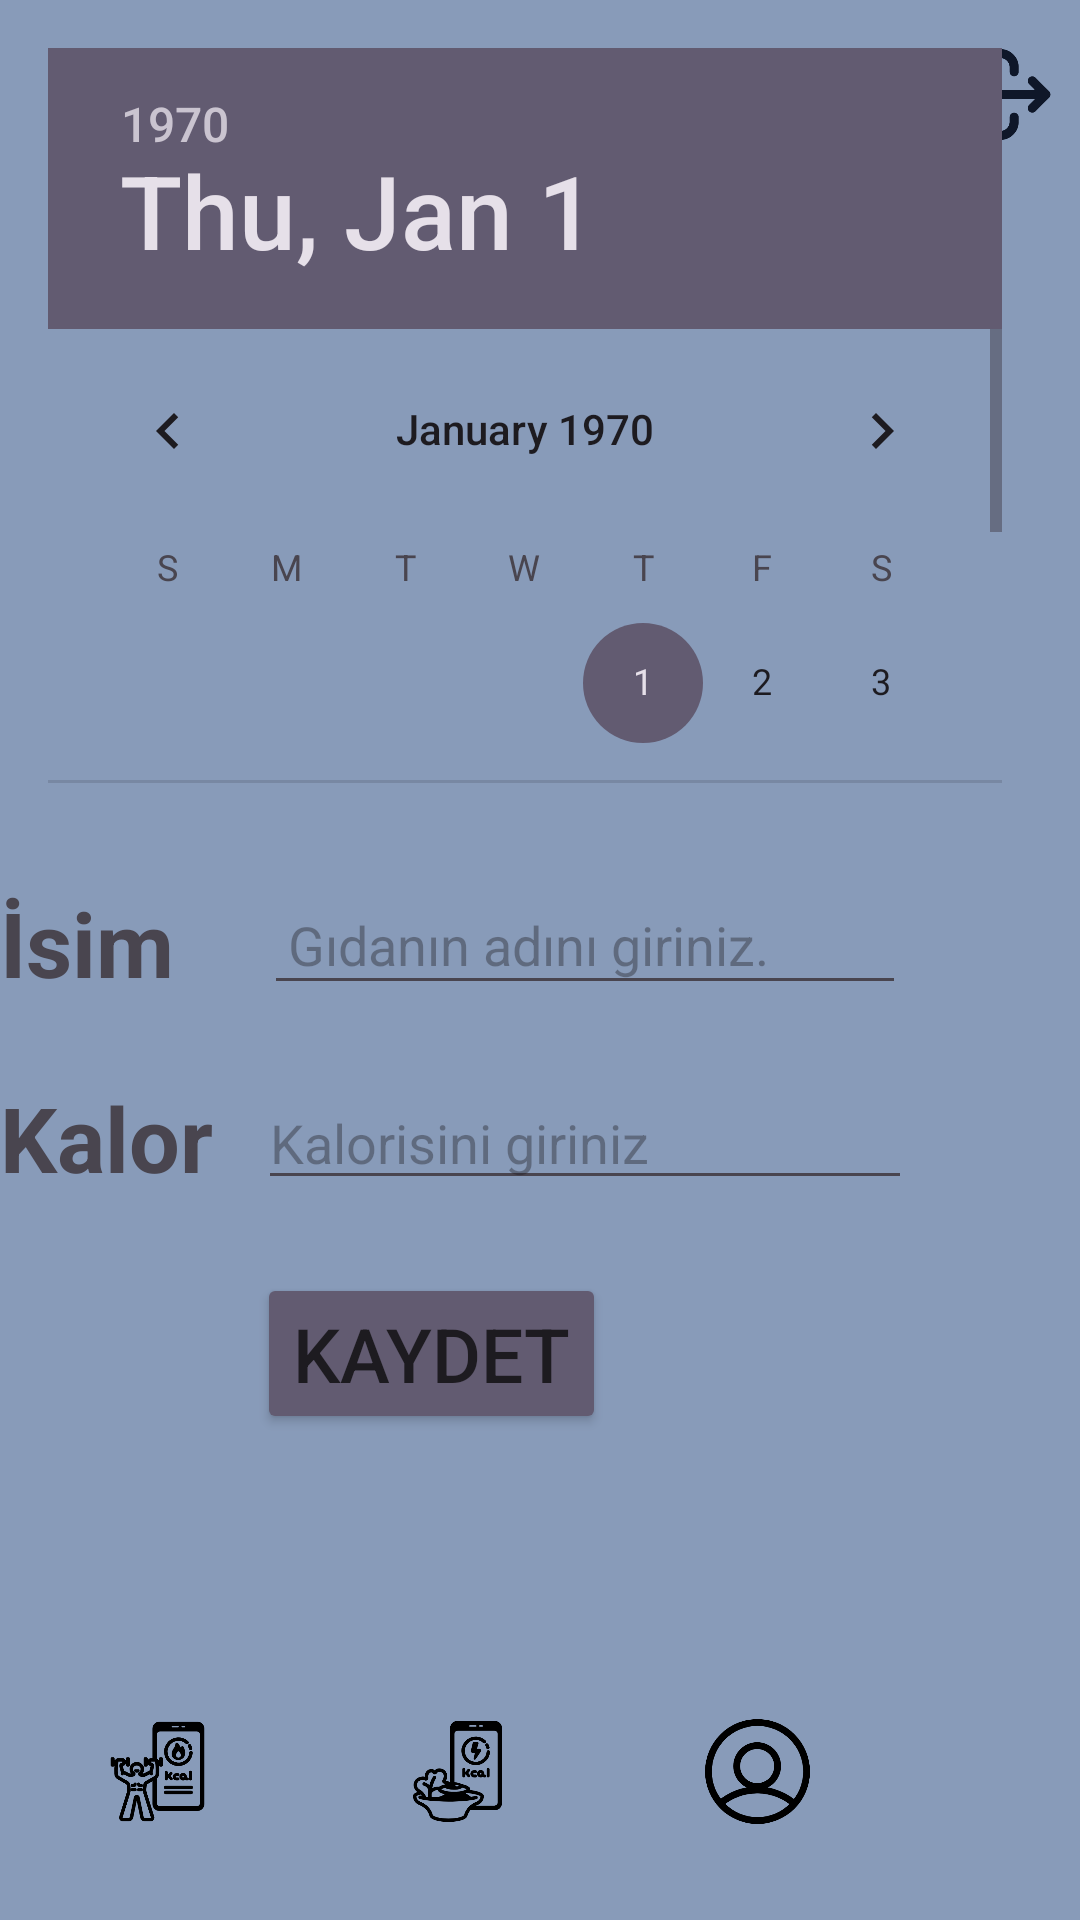

Where icons sit on this 1080px x 1920px app screen, as (x1, y1, x2, y2):
cal: (413, 1721, 502, 1822)
exc: (110, 1722, 205, 1821)
profilee: (705, 1719, 810, 1824)
